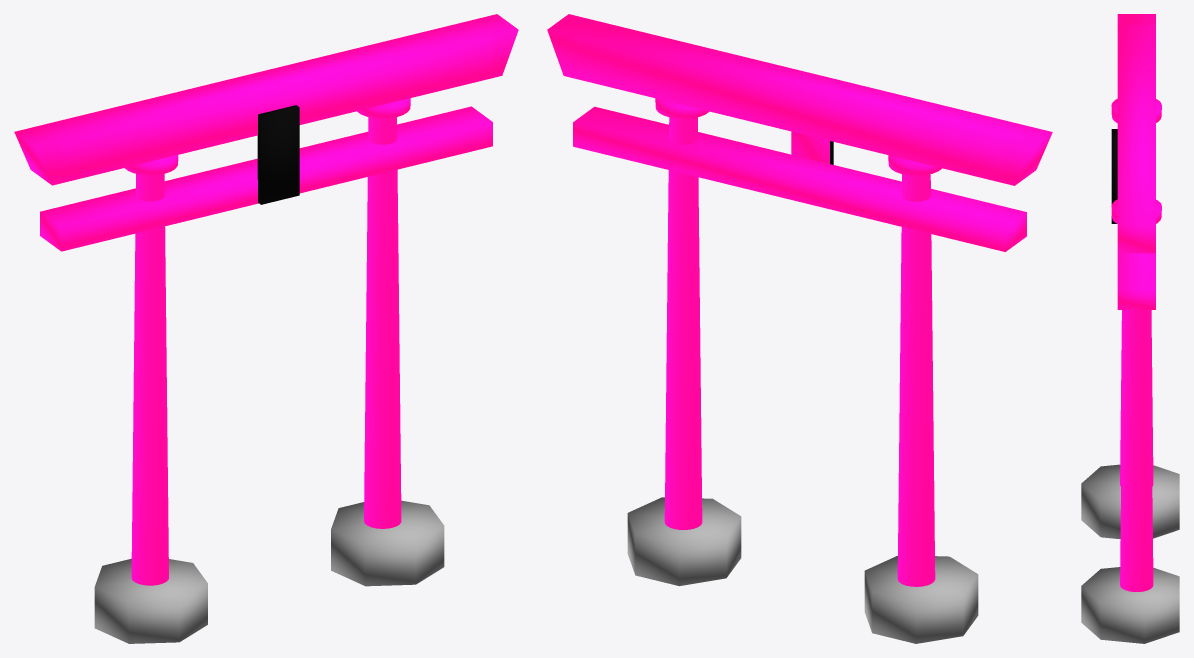
File: torii.fbx
3 renders of one model, left to right at view 1: azimuth 30°, elevation 25°; view 2: azimuth 150°, elevation 25°; view 3: azimuth 270°, elevation 25°, orthographic. The views are drawn at different scales.
Visible parts, largest first — view 1: obj1.013, obj3.002, obj2.003, obj4.001, obj5.001; view 2: obj1.013, obj3.002, obj2.003, obj4.001, obj5.001; view 3: obj4.001, obj3.002, obj1.013, obj2.003, obj5.001.
Part boxes in pixels (box(x1,y1,x2,y2)): obj1.013: box(14, 14, 518, 185); obj3.002: box(124, 98, 410, 585); obj2.003: box(40, 106, 492, 251); obj4.001: box(94, 500, 444, 643); obj5.001: box(257, 105, 299, 204); obj1.013: box(547, 14, 1052, 185); obj3.002: box(655, 98, 941, 586); obj2.003: box(573, 106, 1026, 251); obj4.001: box(627, 497, 978, 643); obj5.001: box(791, 131, 833, 164); obj4.001: box(1081, 464, 1179, 643); obj3.002: box(1111, 99, 1161, 591); obj1.013: box(1117, 14, 1155, 253); obj2.003: box(1117, 253, 1155, 309); obj5.001: box(1111, 129, 1117, 223).
Size of the model in its own units: 224 by 226 by 44.48.
